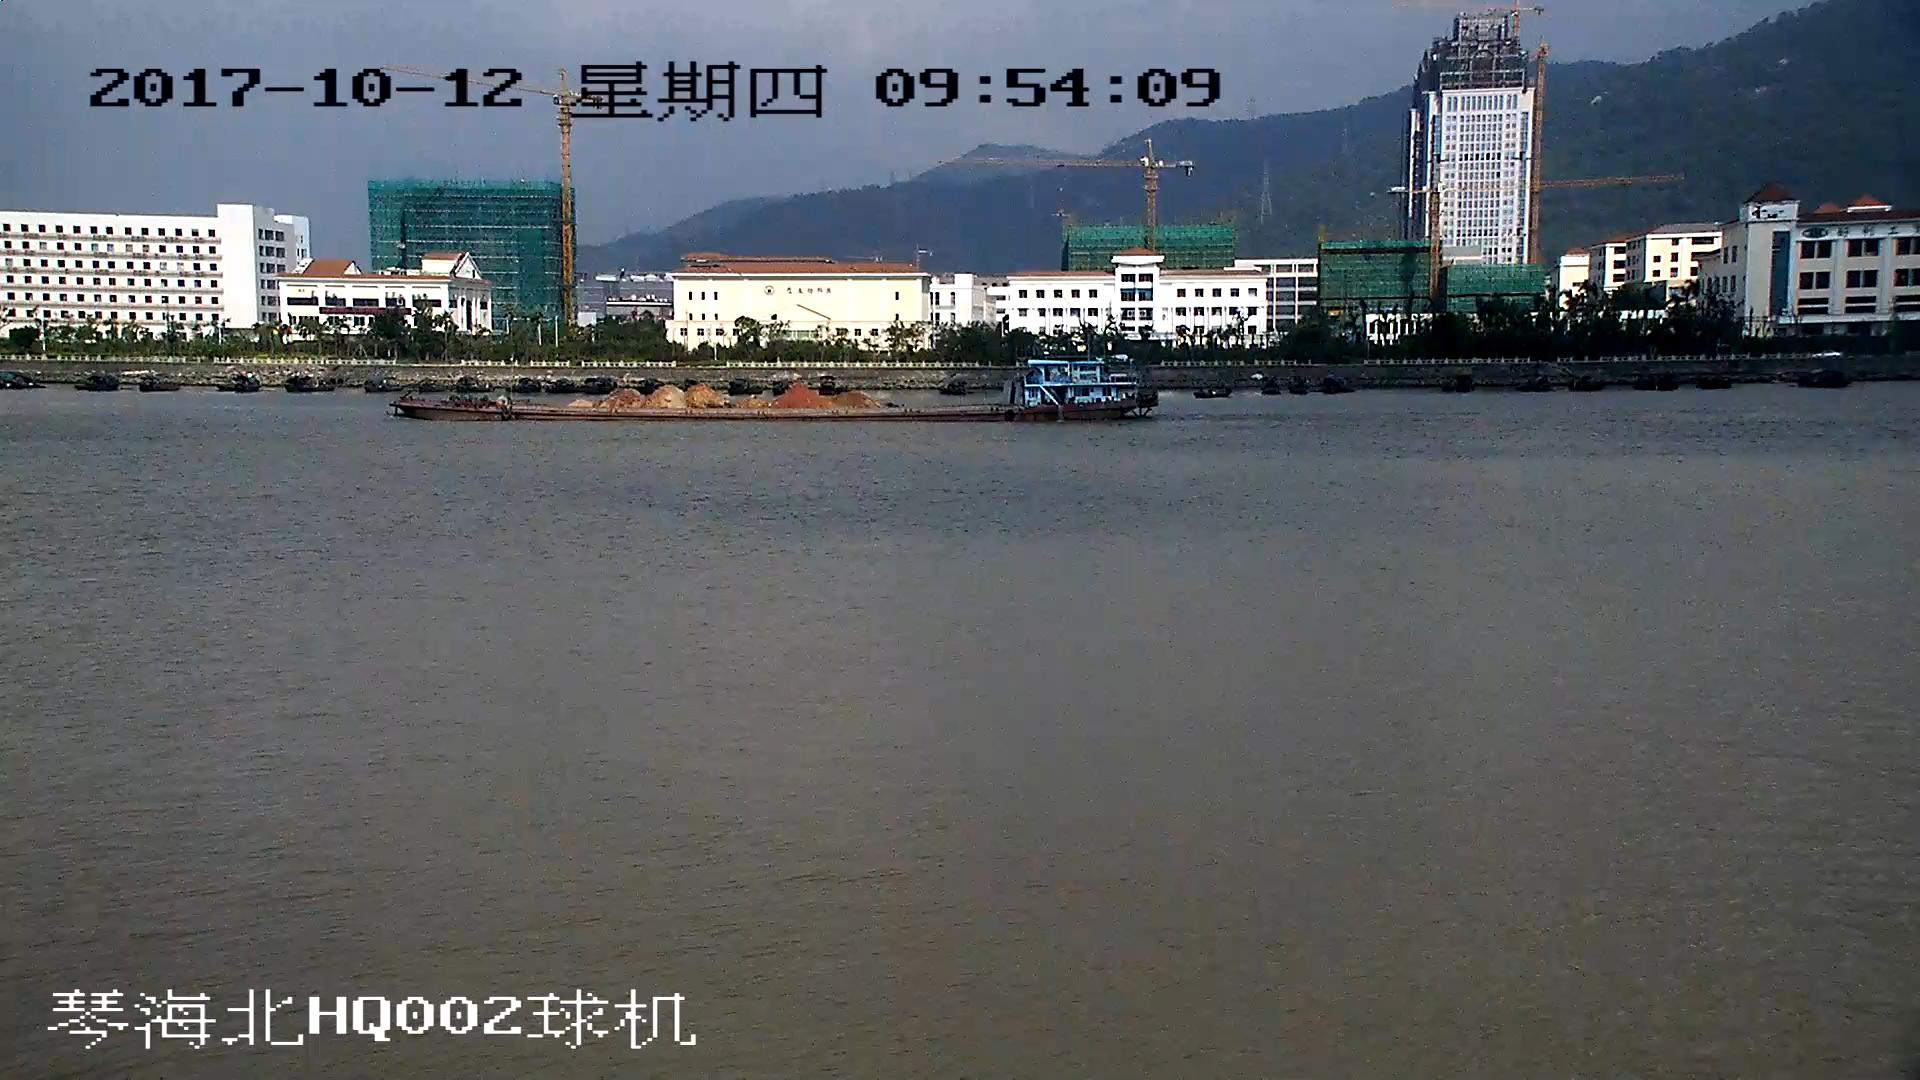ore carrier: (401, 351, 1152, 422)
